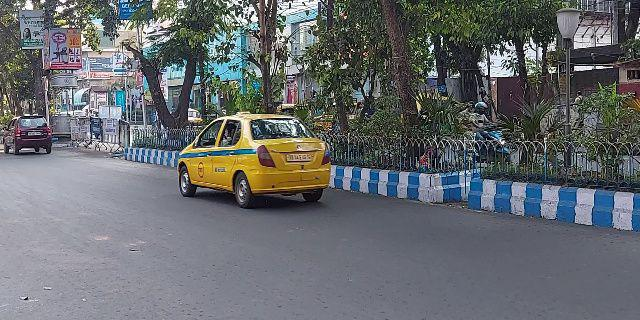Car: (172, 108, 333, 213), (3, 111, 56, 157)
